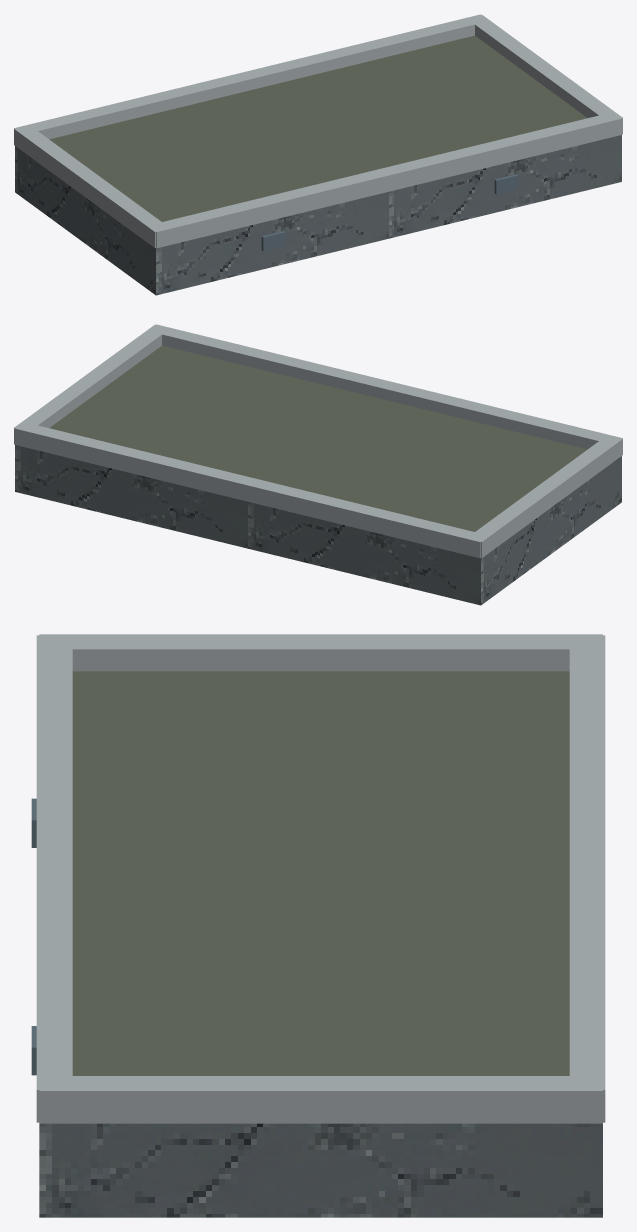
File: planter_wide.glb
The picture shows the model from 3 angles, top to bottom: view 1: azimuth 30°, elevation 25°; view 2: azimuth 150°, elevation 25°; view 3: azimuth 270°, elevation 25°; orthographic projection. The views are drawn at different scales.
Visible parts, largest first — view 1: planter_wide; view 2: planter_wide; view 3: planter_wide.
Boxes of the visible parts, x1,y1,x2,y2 form: planter_wide: [14, 14, 622, 295]; planter_wide: [14, 324, 622, 605]; planter_wide: [31, 634, 605, 1217].
Size of the model in its own units: 4.22 by 0.55 by 2.24.
4 materials, 1 textured.
